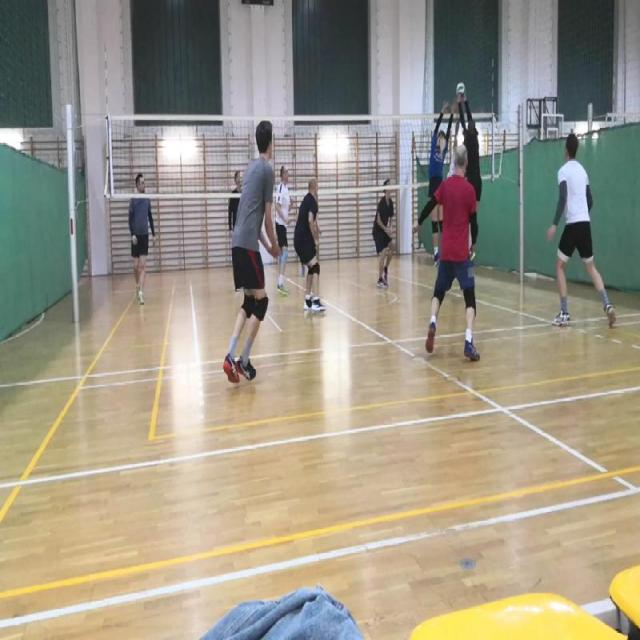volleyball: (456, 82, 465, 97)
